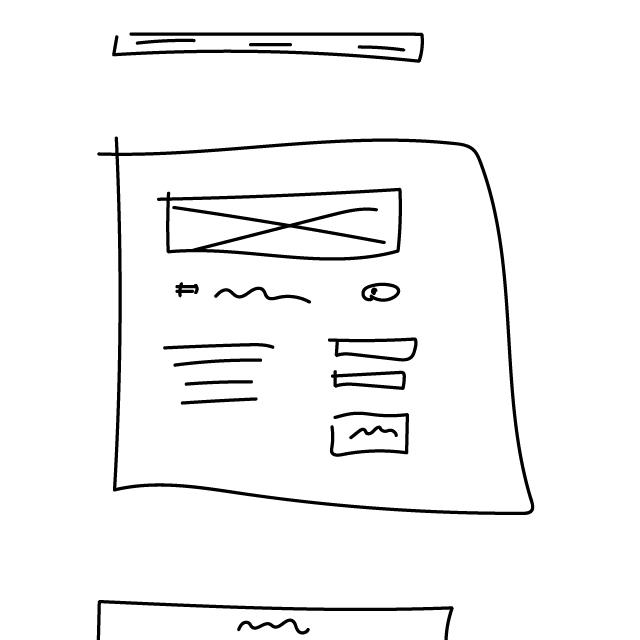button: (325, 409, 419, 459)
checkbox: (360, 281, 405, 305)
container: (88, 120, 554, 541)
footer: (86, 591, 464, 640)
frame: (157, 186, 408, 268)
heading: (169, 275, 318, 317)
input: (331, 333, 422, 365), (331, 367, 411, 396)
nav: (111, 26, 430, 62)
text: (159, 340, 287, 412)
